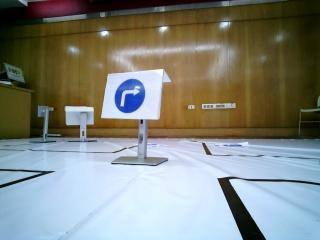right: (100, 71, 161, 120)
